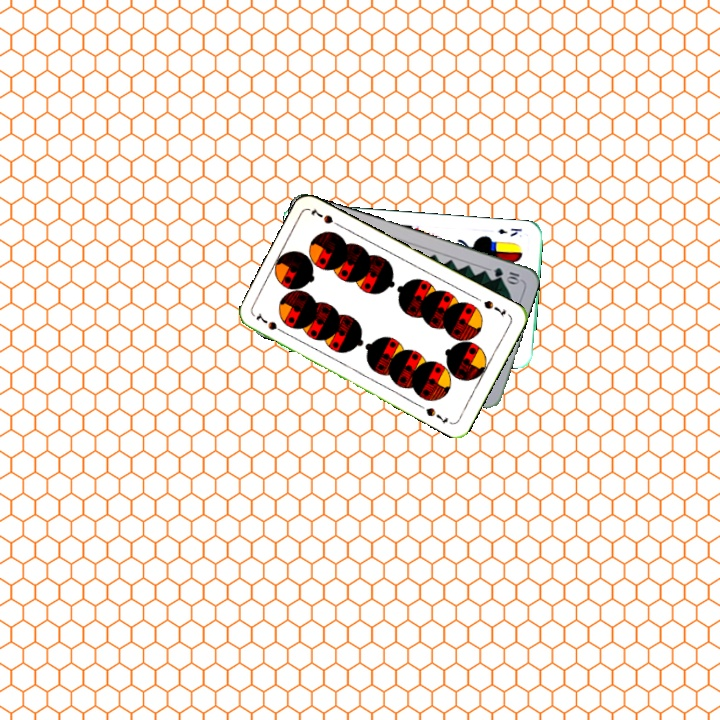EK: (494, 224, 524, 239)
G10: (489, 263, 523, 286)
S7: (252, 309, 289, 337), (480, 296, 509, 320)
